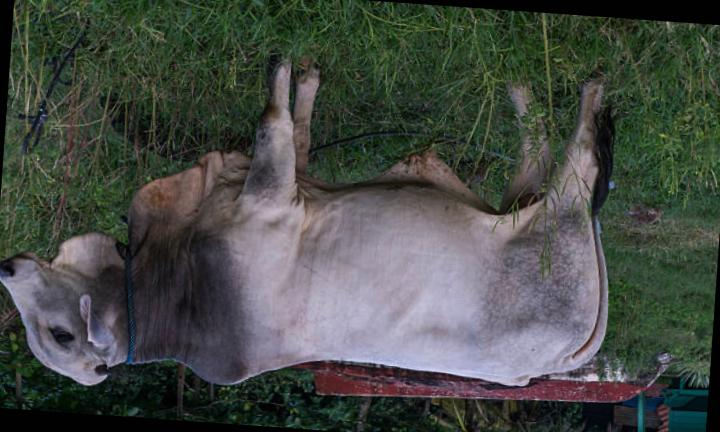Brahman: (0, 58, 616, 386), (511, 86, 530, 116)
